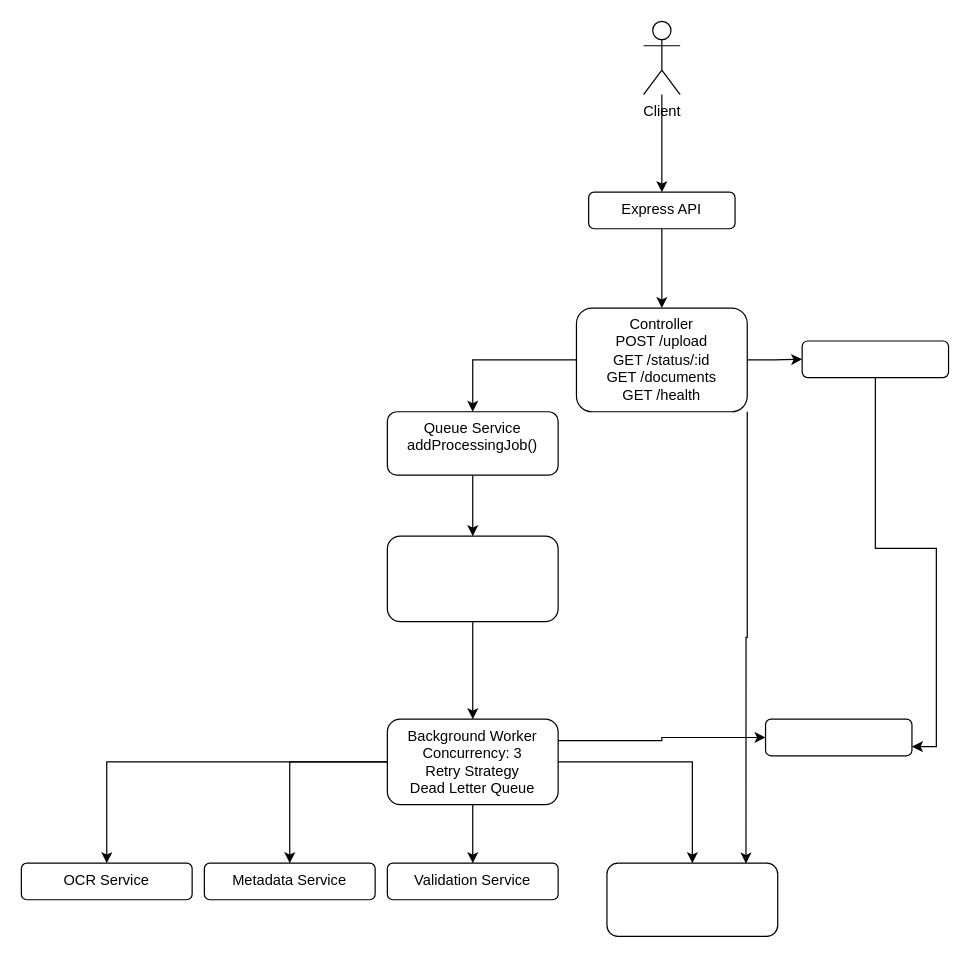
The diagram is 970 pixels wide and 958 high, and some of its shapes have lost their labels. Here are the shapes that lost their labels. From the top down, the box of each, then its label:
(801, 340, 949, 378): Error Middleware
(386, 535, 558, 622): Redis Queue BullMQ Job Managment
(764, 718, 912, 756): Logger
(606, 862, 778, 936): PostgreSQL Document Storage Status Tracking
